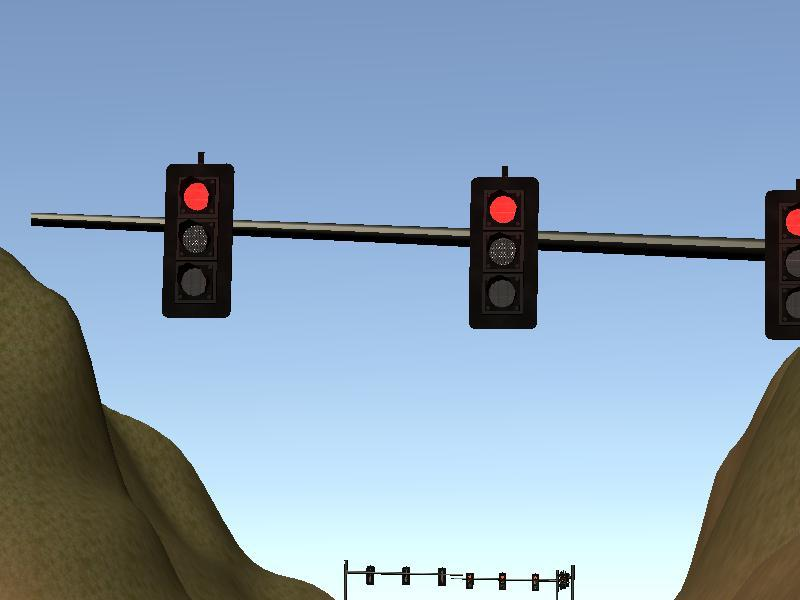Red: (167, 165, 227, 315), (473, 181, 535, 326), (765, 190, 800, 339)
